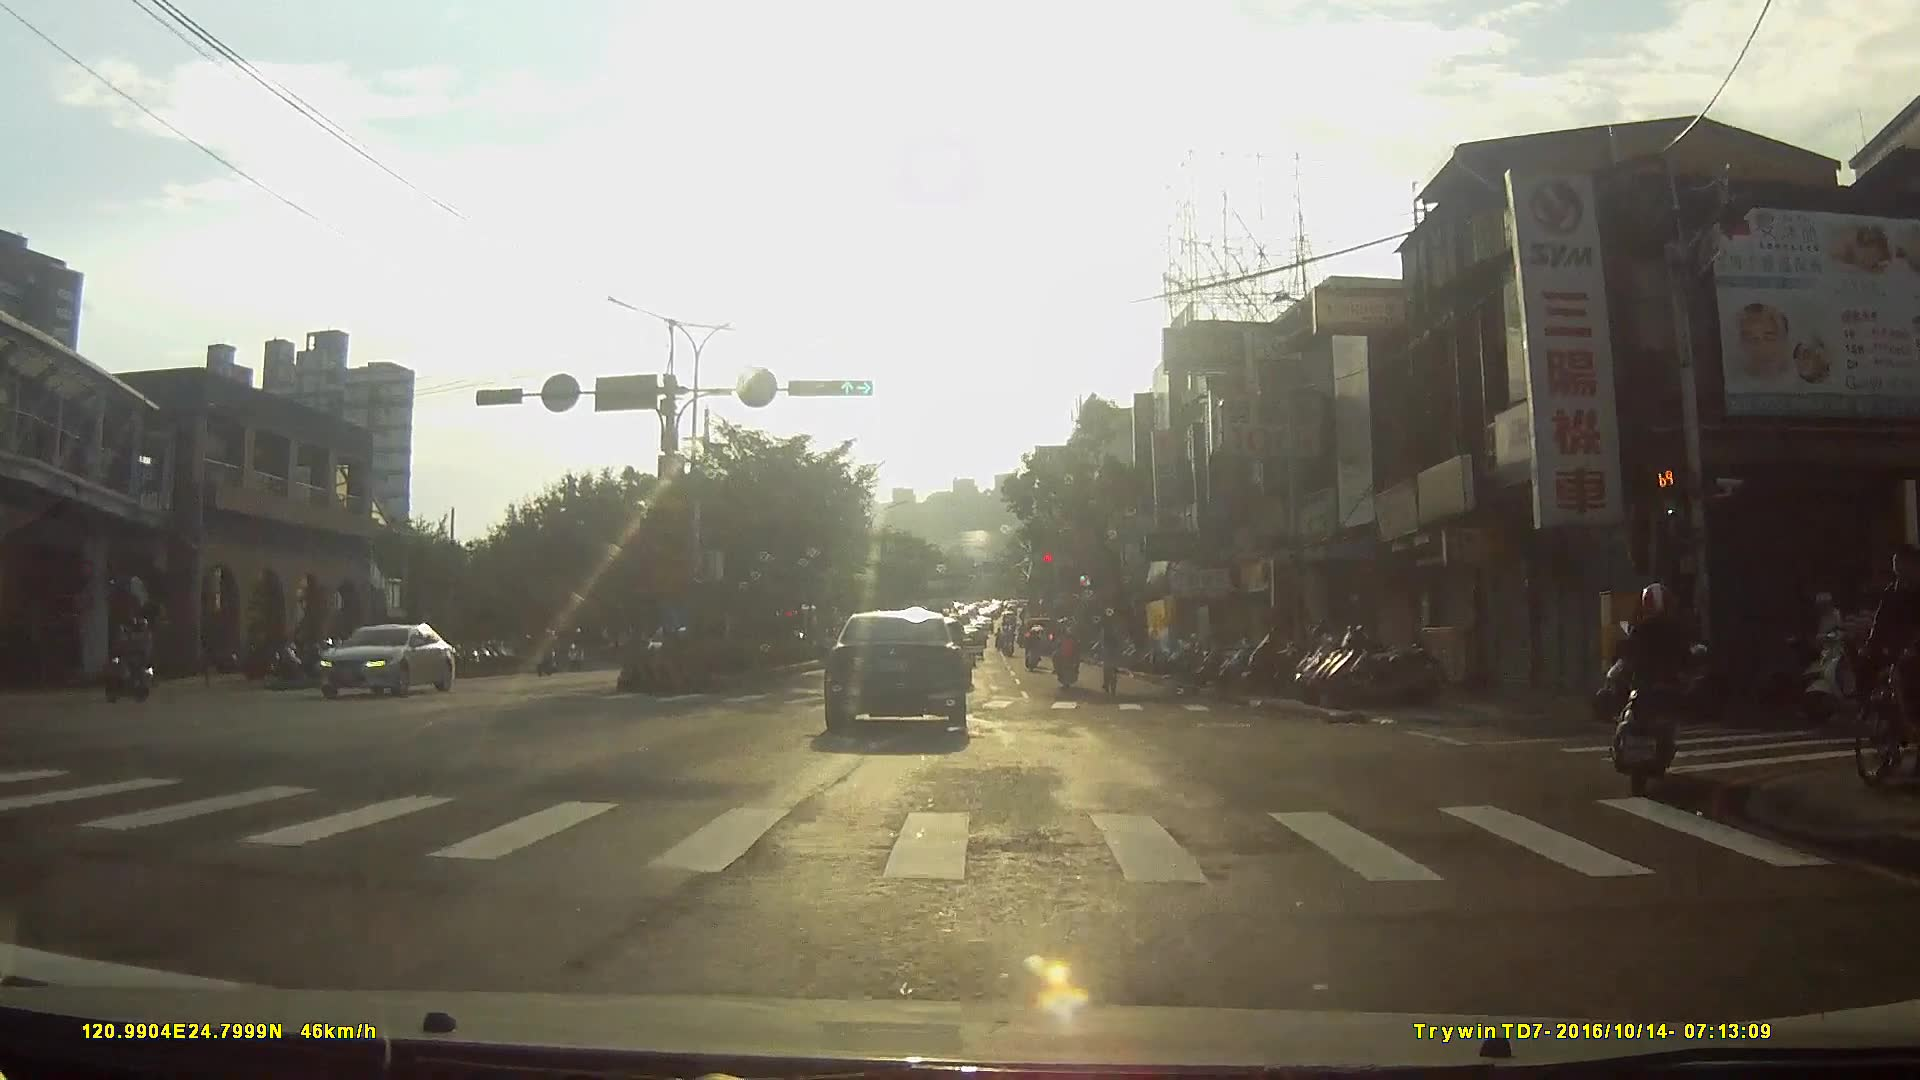rider: (1612, 580, 1712, 801), (1854, 553, 1920, 784), (109, 614, 158, 697), (1053, 623, 1082, 691), (1022, 626, 1046, 673)
vehicle: (824, 608, 983, 748), (316, 618, 458, 706)
